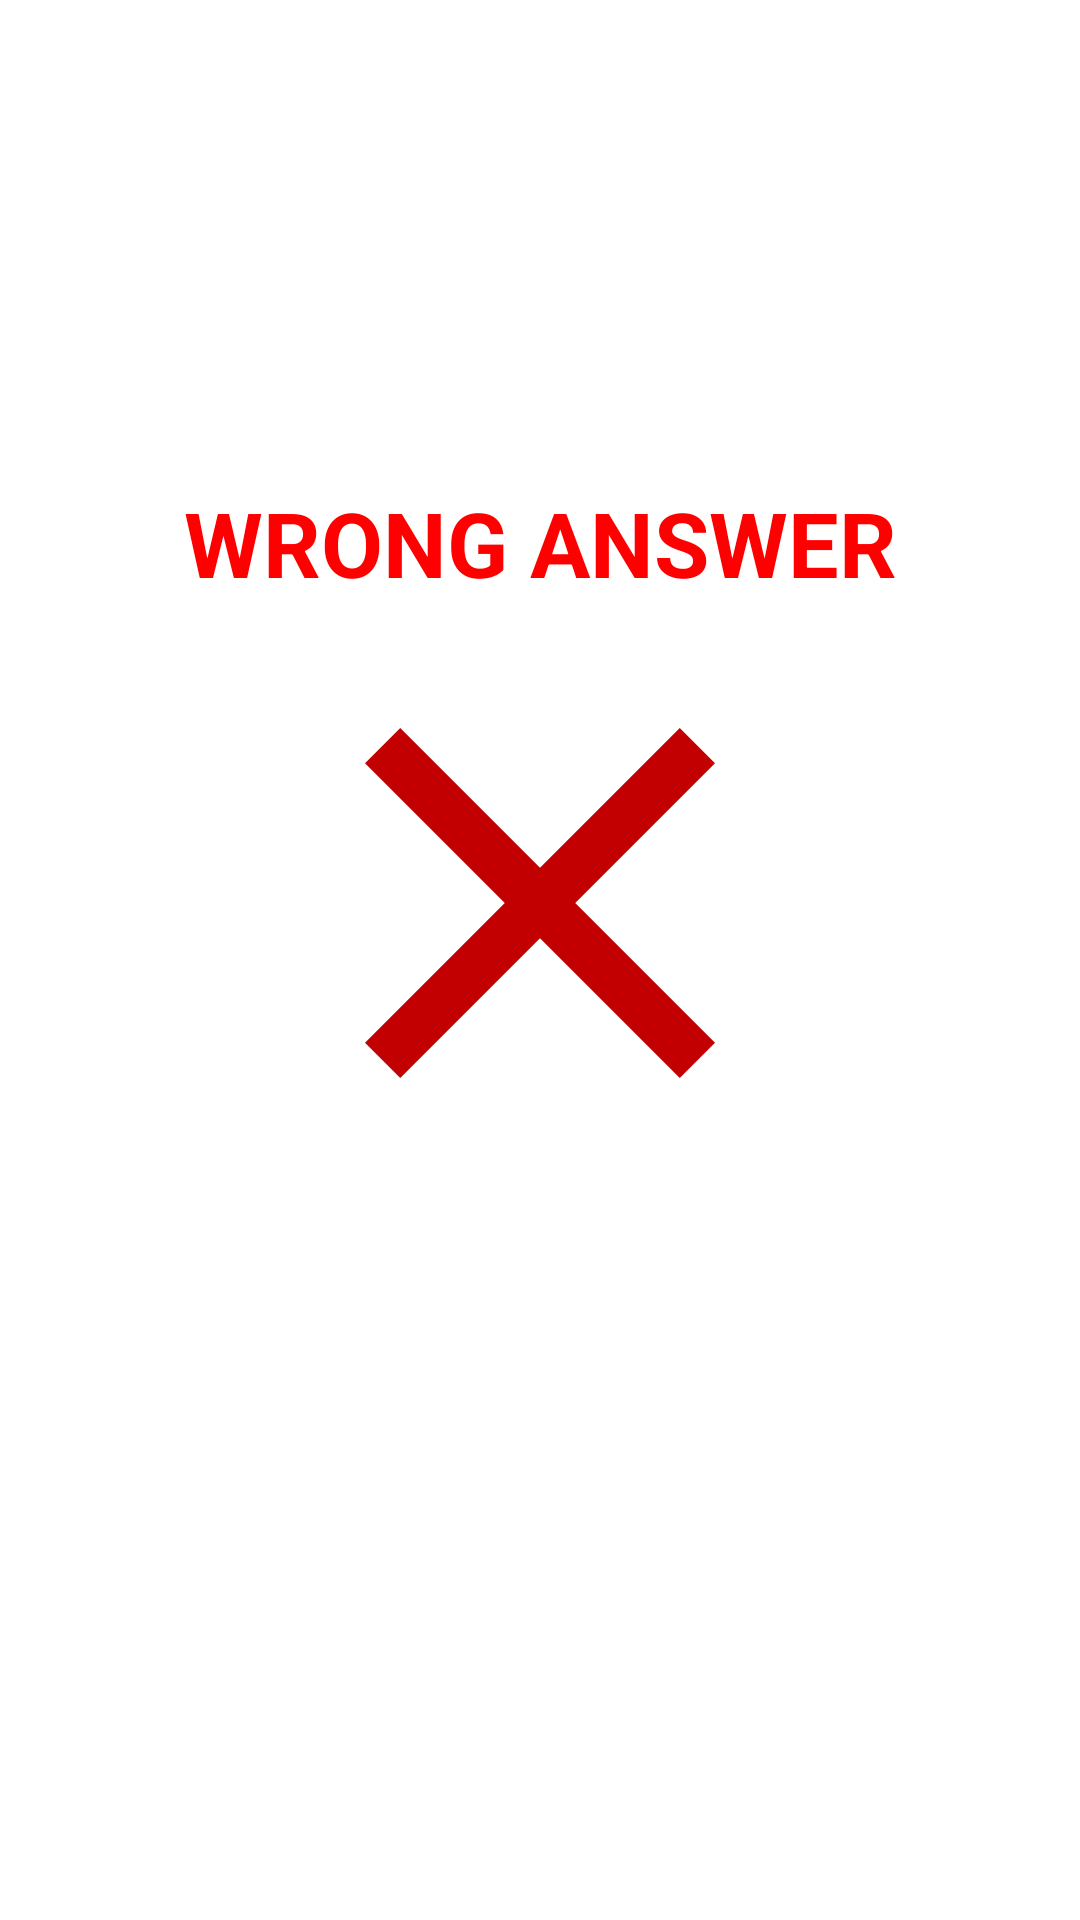

Screen size 1080x1920. Icon name, then its center in pixels as (x=x, y=y):
clear: (x=540, y=903)
